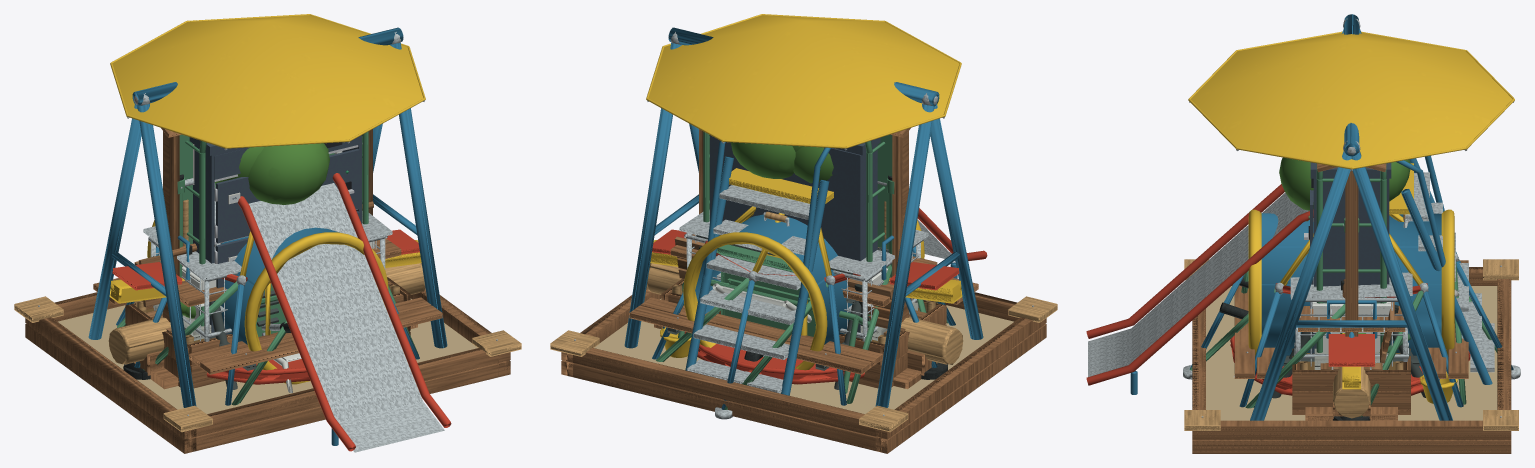
The model's file is prop_00.glb.
The picture shows the model from 3 angles, left to right: view 1: azimuth 30°, elevation 25°; view 2: azimuth 150°, elevation 25°; view 3: azimuth 270°, elevation 25°; orthographic projection.
Visible parts, largest first — view 1: Batch_Surface_yellow (×5), Batch_Wood_oiled_longitudinal (×7), Batch_Metal_galvanized (×3), Batch_Surface_blue (×4), Batch_Surface_red (×5), Batch_Surface_sand (×2), static_assembly, Batch_Wood_unfinished_longitudinal (×3), Batch_Surface_leaf, Batch_Surface_green (×3); view 2: Batch_Surface_yellow (×9), Batch_Wood_oiled_longitudinal (×8), Batch_Surface_blue (×6), Batch_Metal_galvanized (×4), Batch_Surface_green (×6), static_assembly, Batch_Surface_sand (×2), Batch_Wood_unfinished_longitudinal (×3), Batch_Surface_red (×5), Batch_Surface_leaf, Batch_Wood_oiled_ash_1; view 3: Batch_Surface_yellow (×4), Batch_Wood_oiled_longitudinal (×7), Batch_Surface_blue (×5), Batch_Metal_galvanized (×3), Batch_Surface_sand (×2), Batch_Surface_red (×3), static_assembly, Batch_Wood_unfinished_longitudinal (×3), Batch_Surface_green (×2), Batch_Surface_leaf, Batch_Surface_white, Batch_Metal_powdercoat.
Boxes of the visible parts, x1=… form: Batch_Surface_yellow (×5): x1=109, y1=14, x2=425, y2=384; Batch_Wood_oiled_longitudinal (×7): x1=25, y1=128, x2=510, y2=453; Batch_Metal_galvanized (×3): x1=143, y1=183, x2=444, y2=452; Batch_Surface_blue (×4): x1=88, y1=27, x2=447, y2=407; Batch_Surface_red (×5): x1=112, y1=173, x2=451, y2=451; Batch_Surface_sand (×2): x1=58, y1=298, x2=477, y2=413; static_assembly: x1=189, y1=135, x2=361, y2=334; Batch_Wood_unfinished_longitudinal (×3): x1=14, y1=263, x2=521, y2=432; Batch_Surface_leaf: x1=214, y1=143, x2=329, y2=204; Batch_Surface_green (×3): x1=117, y1=131, x2=418, y2=405; Batch_Surface_yellow (×9): x1=646, y1=14, x2=962, y2=370; Batch_Wood_oiled_longitudinal (×8): x1=561, y1=128, x2=1046, y2=453; Batch_Surface_blue (×6): x1=624, y1=27, x2=983, y2=409; Batch_Metal_galvanized (×4): x1=679, y1=185, x2=979, y2=393; Batch_Surface_green (×6): x1=656, y1=131, x2=948, y2=409; static_assembly: x1=710, y1=135, x2=880, y2=332; Batch_Surface_sand (×2): x1=594, y1=298, x2=1013, y2=413; Batch_Wood_unfinished_longitudinal (×3): x1=550, y1=263, x2=1057, y2=432; Batch_Surface_red (×5): x1=652, y1=208, x2=987, y2=384; Batch_Surface_leaf: x1=730, y1=142, x2=833, y2=183; Batch_Wood_oiled_ash_1: x1=674, y1=236, x2=920, y2=335; Batch_Surface_yellow (×4): x1=1188, y1=31, x2=1514, y2=355; Batch_Wood_oiled_longitudinal (×7): x1=1192, y1=163, x2=1511, y2=453; Batch_Surface_blue (×5): x1=1130, y1=14, x2=1513, y2=420; Batch_Metal_galvanized (×3): x1=1088, y1=172, x2=1494, y2=385; Batch_Surface_sand (×2): x1=1206, y1=286, x2=1497, y2=420; Batch_Surface_red (×3): x1=1086, y1=184, x2=1374, y2=385; static_assembly: x1=1304, y1=162, x2=1391, y2=353; Batch_Wood_unfinished_longitudinal (×3): x1=1184, y1=259, x2=1518, y2=430; Batch_Surface_green (×2): x1=1190, y1=163, x2=1497, y2=416; Batch_Surface_leaf: x1=1279, y1=157, x2=1410, y2=210; Batch_Surface_white: x1=1312, y1=302, x2=1390, y2=332; Batch_Metal_powdercoat: x1=1255, y1=332, x2=1425, y2=398.
Bounding box in the file's own units: 2.71 × 2.56 × 2.99.
Materials: 287 (277 with a texture image).
